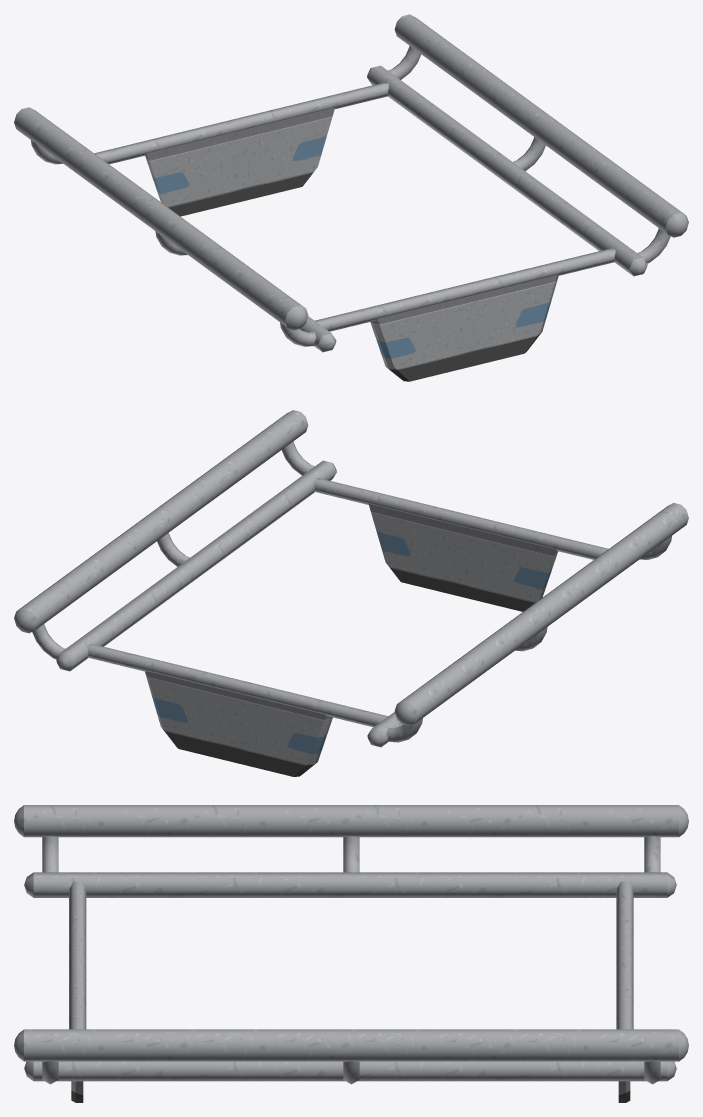
The model's file is mesaFerro.FBX.
The picture shows the model from 3 angles, top to bottom: view 1: azimuth 30°, elevation 25°; view 2: azimuth 150°, elevation 25°; view 3: azimuth 270°, elevation 25°; orthographic projection. The views are drawn at different scales.
Visible parts, largest first — view 1: baseMesaFerro01, peMesaFerro002, peMesaFerro01; view 2: baseMesaFerro01, peMesaFerro01, peMesaFerro002; view 3: baseMesaFerro01.
Part boxes in pixels (x1,y1,x2,y2): baseMesaFerro01: (14,14,688,352); peMesaFerro002: (145,107,334,216); peMesaFerro01: (370,275,558,381); baseMesaFerro01: (14,410,688,747); peMesaFerro01: (368,503,557,611); peMesaFerro002: (145,671,332,776); baseMesaFerro01: (14,805,688,1084).
Size of the model in its own units: 174 by 50.28 by 209.
